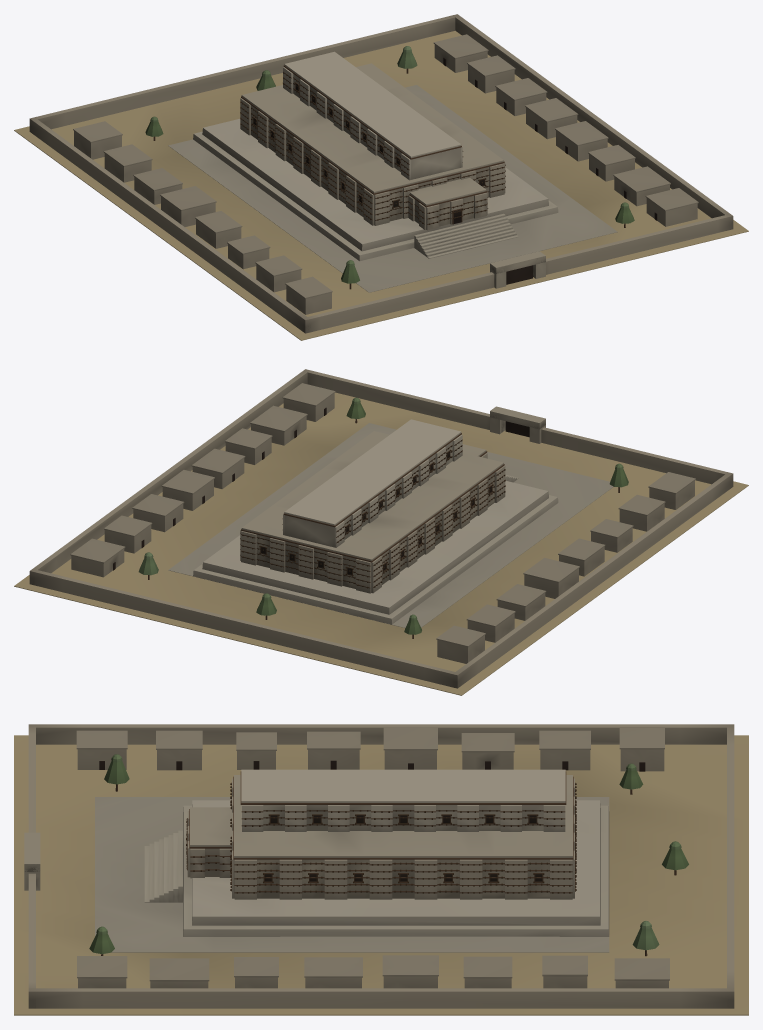
File: mary-of-zion-aksumite.glb
3 renders of one model, top to bottom at view 1: azimuth 30°, elevation 25°; view 2: azimuth 150°, elevation 25°; view 3: azimuth 270°, elevation 25°, orthographic. The views are drawn at different scales.
Parts seen in each view (by area): view 1: p0_podium, p1_precinct, p2_church, p3_roofs; view 2: p0_podium, p1_precinct, p2_church, p3_roofs; view 3: p0_podium, p1_precinct, p2_church, p3_roofs.
Boxes of the visible parts, x1,y1,x2,y2 form: p0_podium: (14, 30, 748, 340); p1_precinct: (29, 14, 733, 333); p2_church: (240, 63, 505, 230); p3_roofs: (283, 51, 463, 180); p0_podium: (14, 392, 748, 695); p1_precinct: (29, 369, 733, 688); p2_church: (240, 431, 505, 593); p3_roofs: (282, 419, 462, 547); p0_podium: (14, 735, 748, 1015); p1_precinct: (24, 724, 734, 1008); p2_church: (186, 775, 576, 899); p3_roofs: (240, 769, 566, 831).
Bounding box in the file's own units: 90 × 13.61 × 100.
